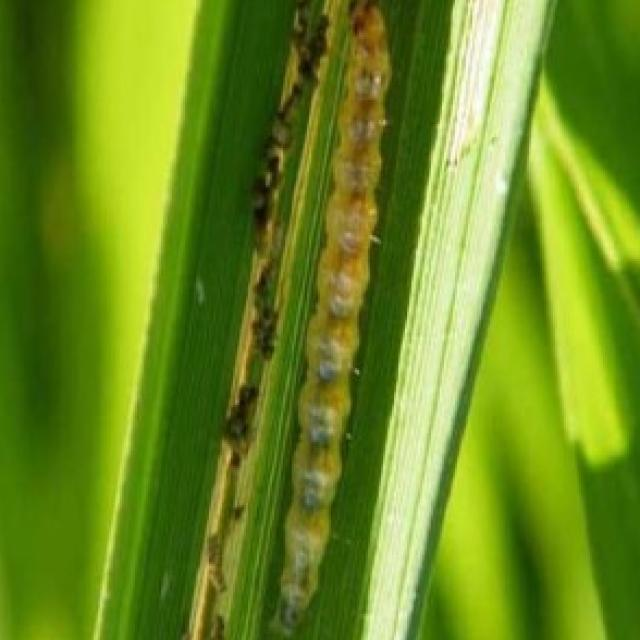rice leaf roller: (272, 0, 390, 633), (222, 0, 324, 470)
